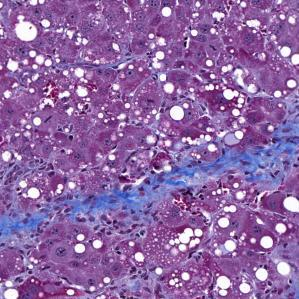fibrosis: (10, 182, 150, 246), (173, 139, 299, 195)
